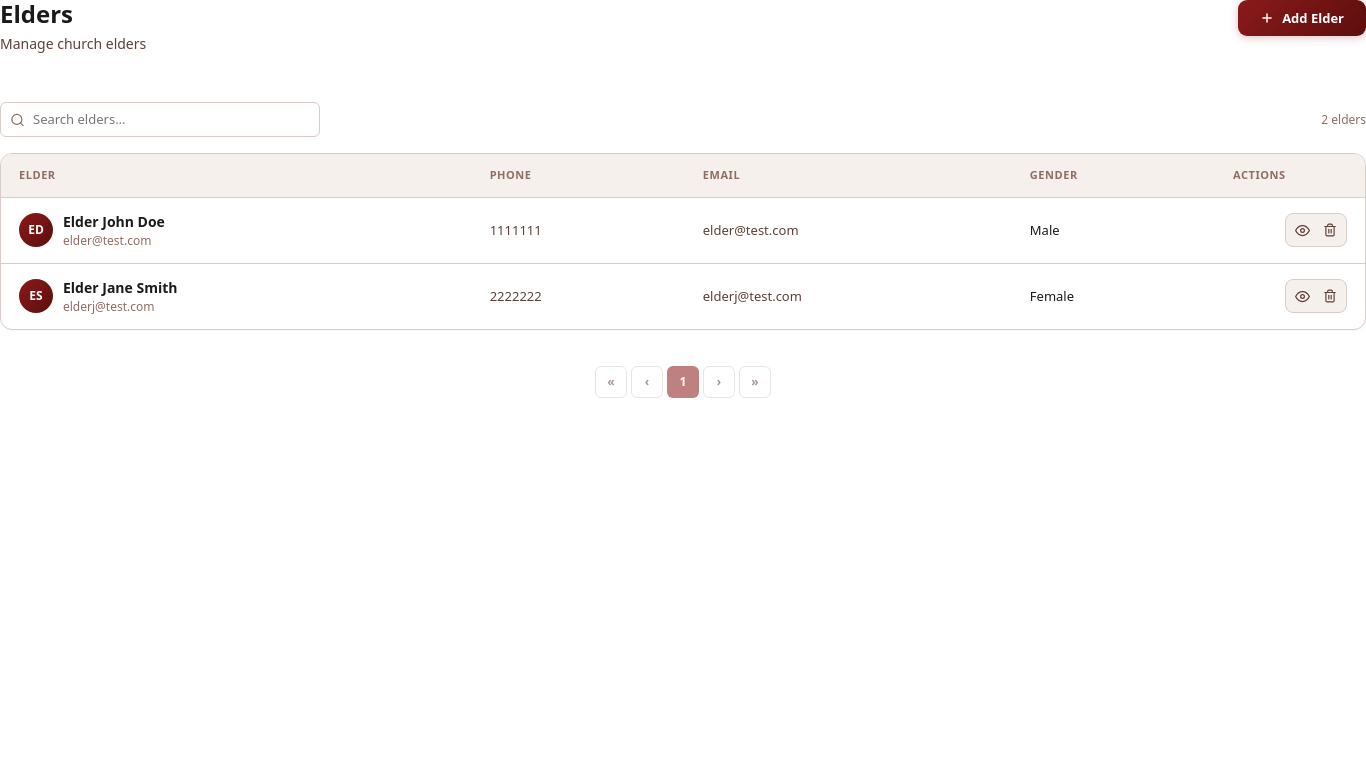
Elders › add elder modal searches on mount
Click the button "Add Elder". click: point(1302, 18)
box: [1238,0,1365,36]
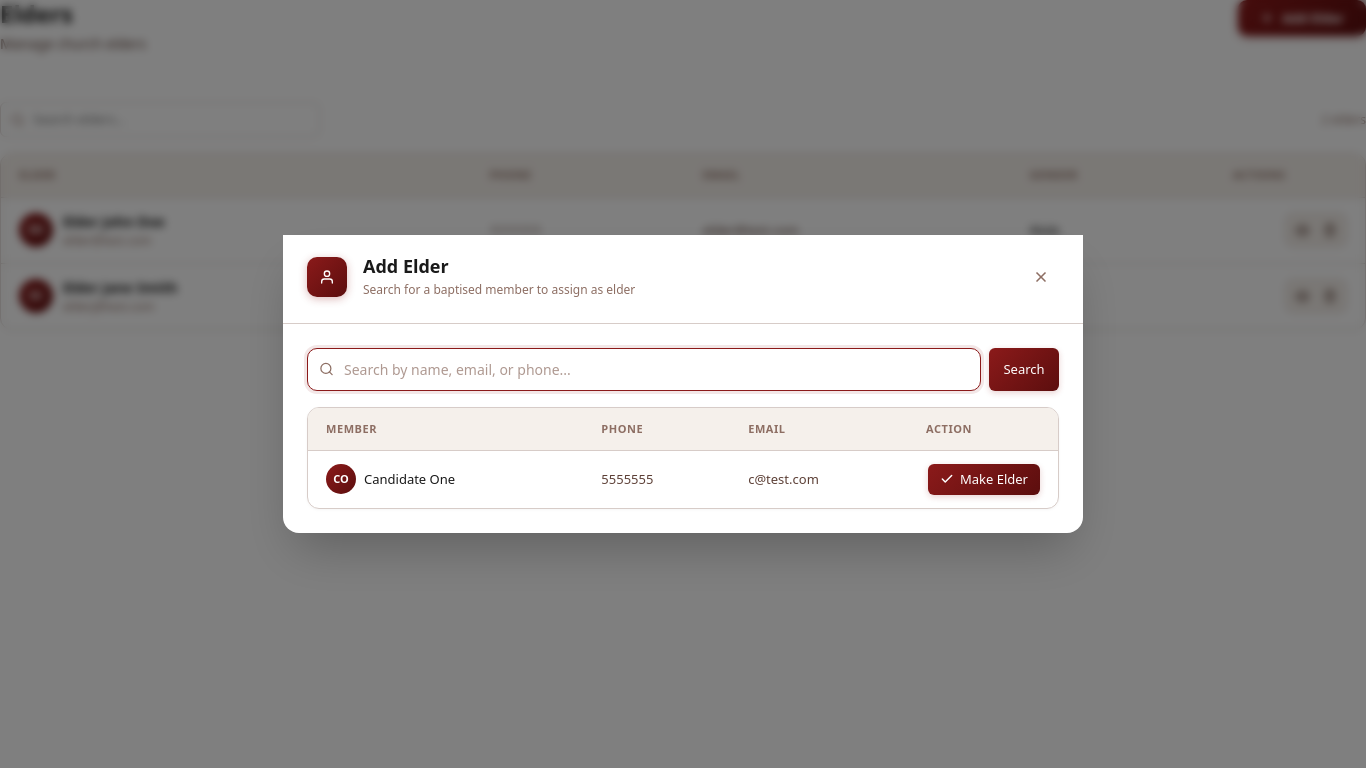
Result: the text "Candidate One" is shown at [364,470,455,489]
